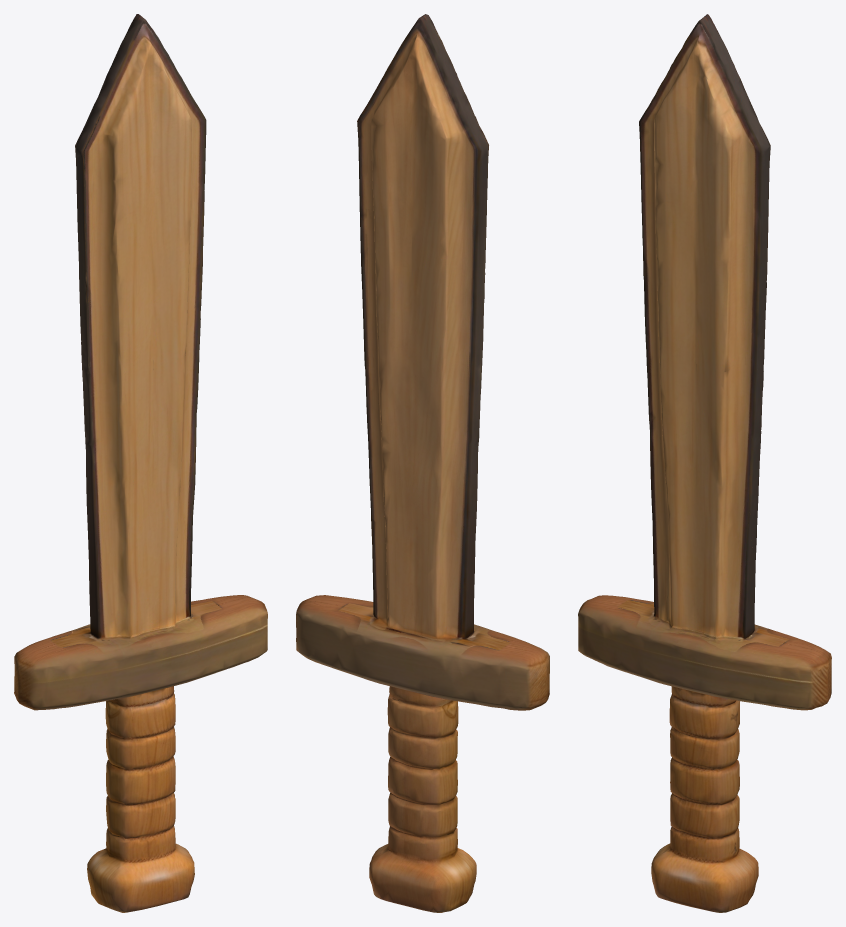
File: Wooden_Practice_Sword.glb
The picture shows the model from 3 angles, left to right: view 1: azimuth 30°, elevation 25°; view 2: azimuth 150°, elevation 25°; view 3: azimuth 330°, elevation 25°; orthographic projection.
Bounding box in the file's own units: 0.5845 × 2 × 0.1659.
Materials: 1 (1 with a texture image).
